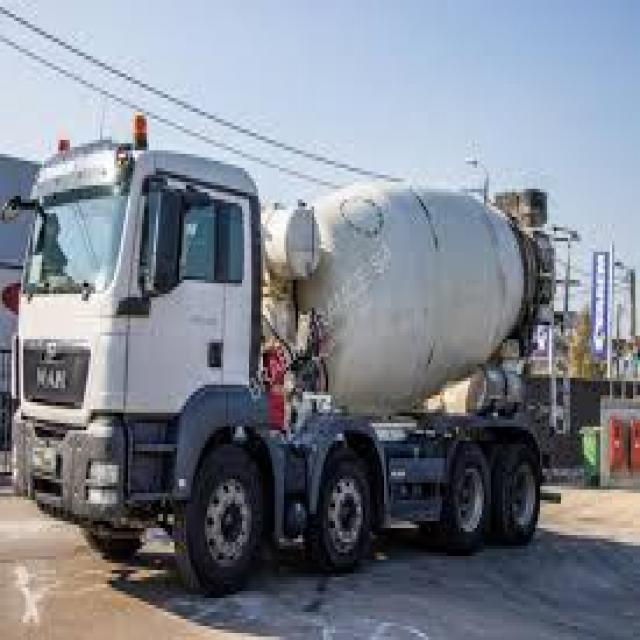Mixer Truck: (10, 106, 581, 597)
